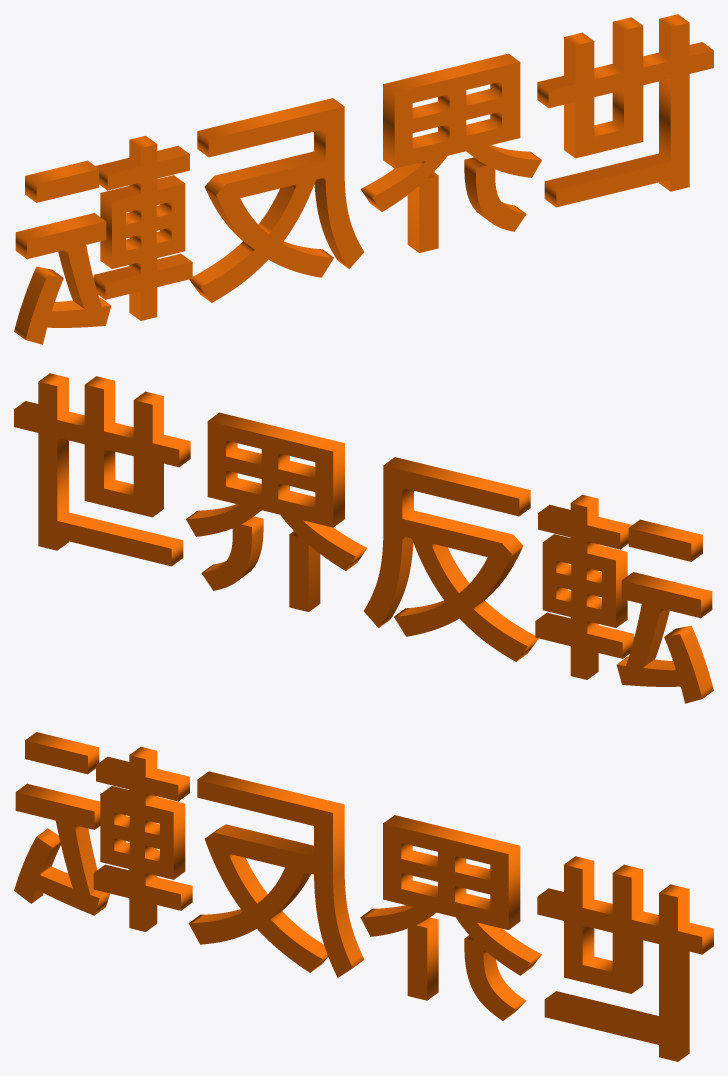
File: titleFont.obj
3 views of the same model, one above another, from view 1: azimuth 30°, elevation 25°; view 2: azimuth 150°, elevation 25°; view 3: azimuth 330°, elevation 25° (orthographic).
Parts seen in each view (by area): view 1: テキスト; view 2: テキスト; view 3: テキスト.
Part boxes in pixels (x1,y1,x2,y2): テキスト: (14,14,713,344); テキスト: (14,373,713,703); テキスト: (14,732,713,1061).
Size of the model in its own units: 20.59 by 5 by 0.6.
Materials: 1 (1 with a texture image).
